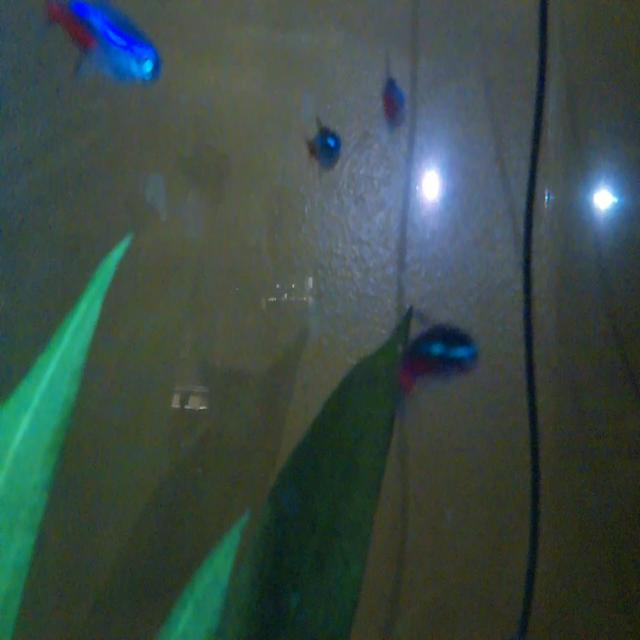fish: (47, 4, 169, 110), (291, 110, 345, 181)
